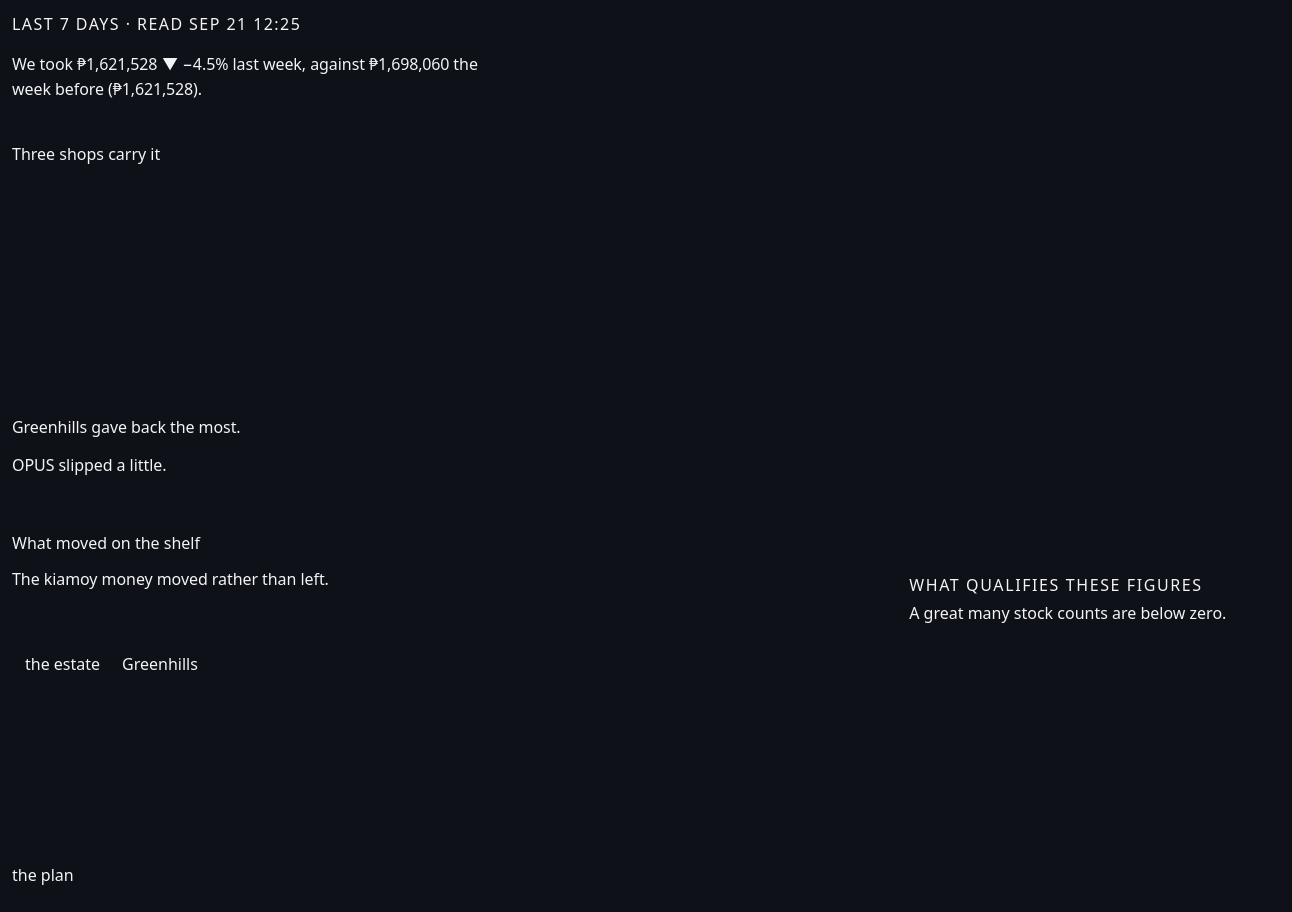
Scenario: tabs › shows one view, and the person switches it with no read
The width and height of the screenshot is (1292, 912).
Expected: the text "Nothing read for Greenhills yet." is not shown
Click the button "Greenhills": click(160, 664) top-left (111, 647), bottom-right (209, 681)
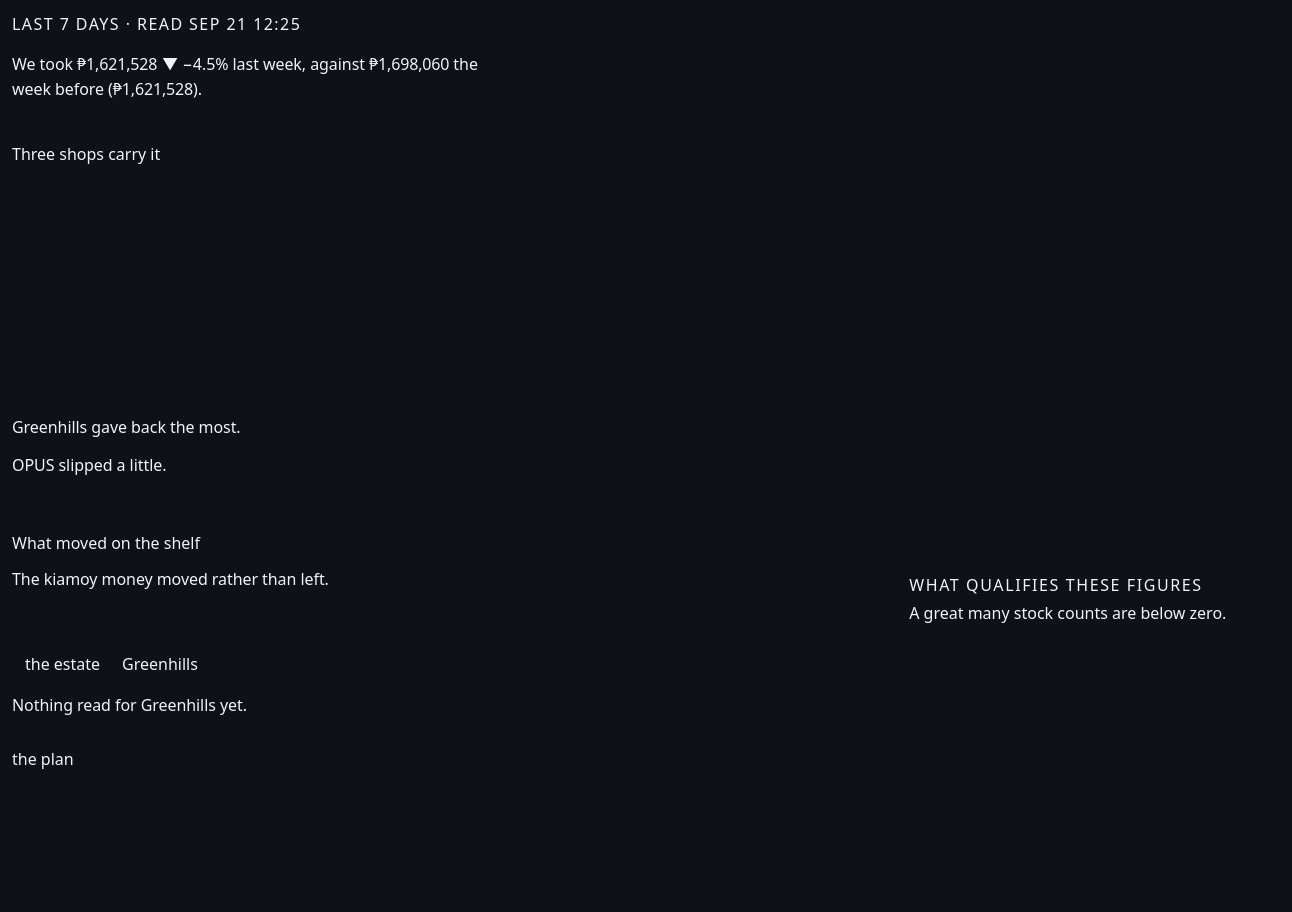
Now the text "Nothing read for Greenhills yet." is shown, box top-left (12, 694), bottom-right (247, 716)
